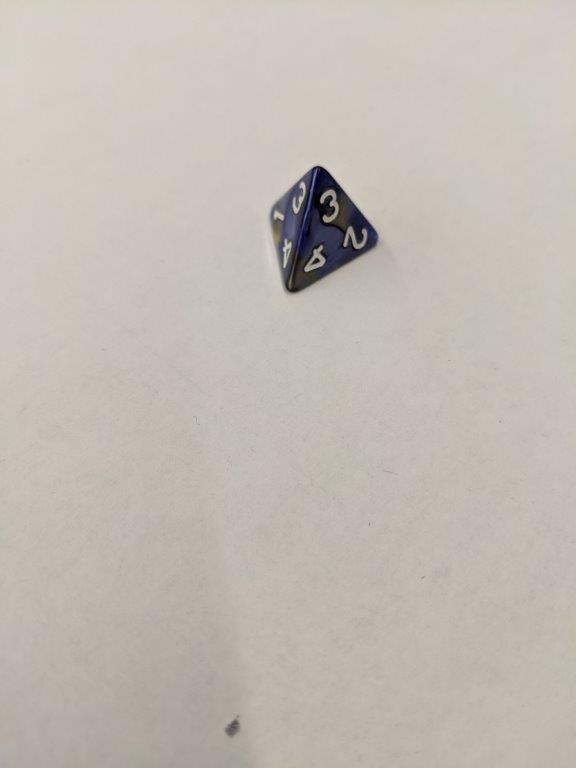d4-3: (266, 163, 380, 296)
